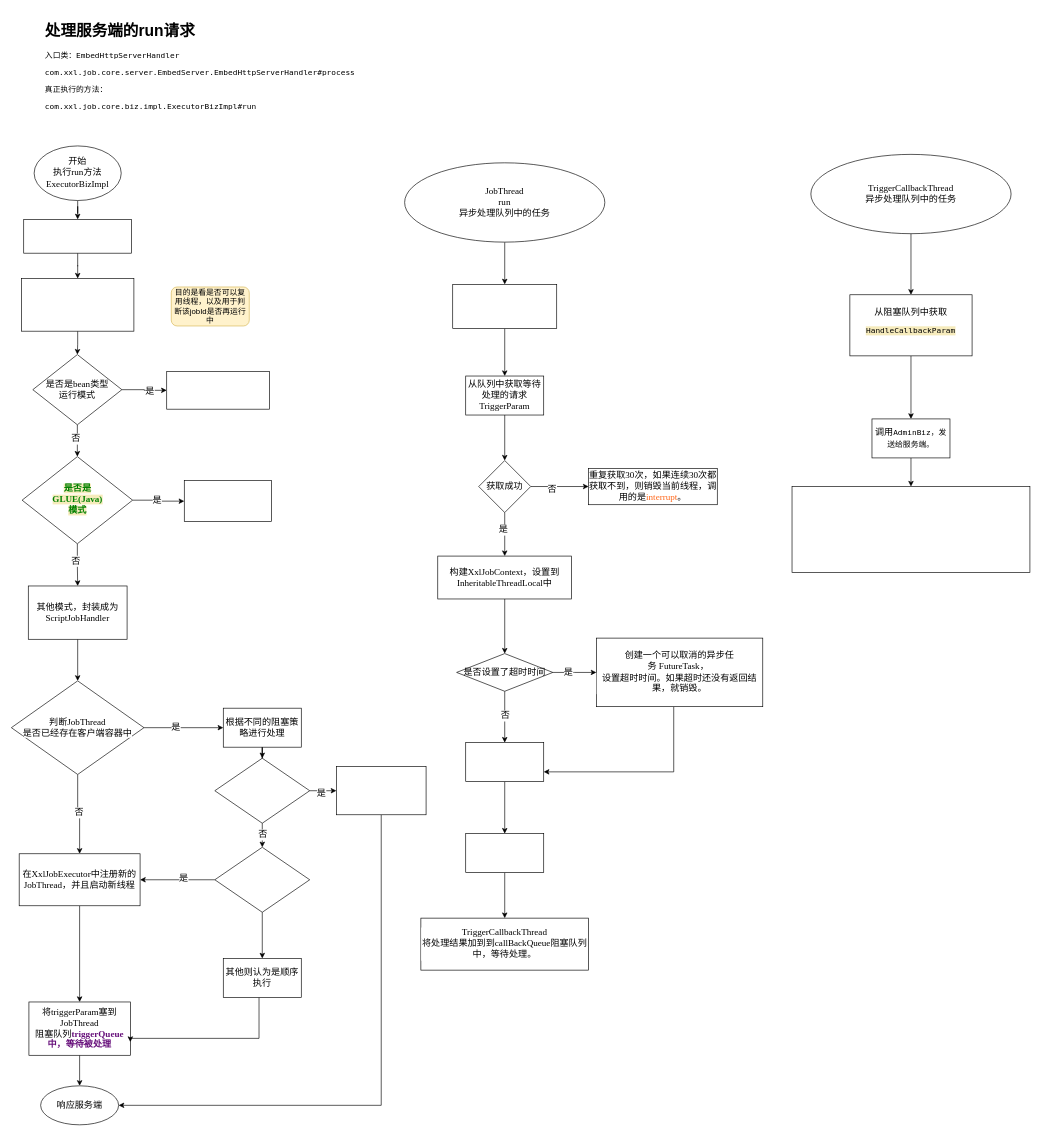
This 1041x1136 diagram has some shape labels left out. Each missing label, with the box of its shape:
丢弃策略？: (214, 758, 310, 823)
复用旧的，或者从容器中获取 jobHandler: (166, 371, 269, 409)
如果失败，将会存到本地文件中，等待重试 /data/applogs/xxl-job/jobhandler/ callbacklog: (791, 486, 1030, 572)
如果正在运行状态，或者队列中有待处理的任务，则不执行新进线程，返回报错。: (336, 766, 426, 815)
将代码编译成 IJobHandler类，再封装成 GlueJobHandler: (184, 480, 271, 522)
将处理结果封装到 XxlJobContext中: (465, 833, 544, 873)
执行 IJobHandler的 execute方法: (465, 742, 544, 782)
接收参数 TriggerParam 包含jobId，logId等信息: (23, 219, 132, 253)
根据 jobId从容器中加载 JobThread，再根据 JobThread加载 jobHandler: (21, 278, 134, 331)
覆盖策略？: (214, 847, 310, 912)
调用 handler .init() 如果有实现，则会调用: (452, 284, 557, 329)
